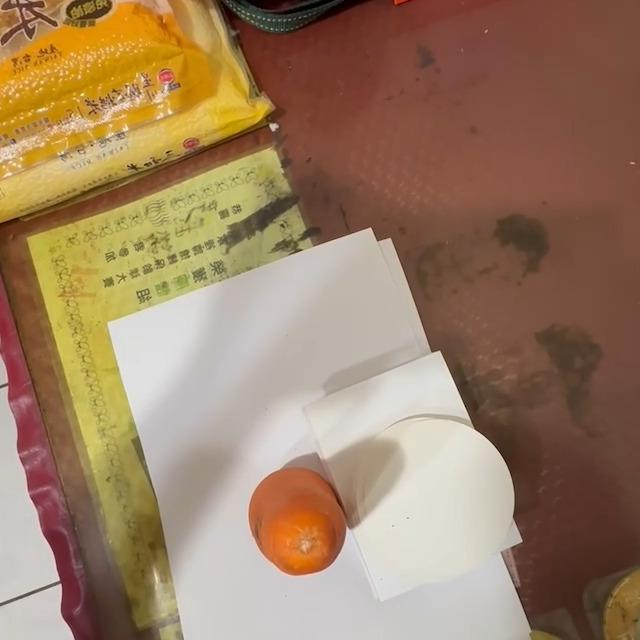carrot: (247, 465, 344, 577)
